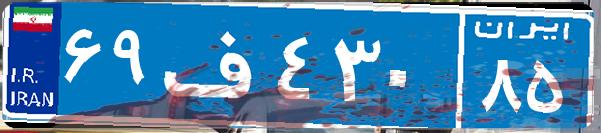0: (385, 28, 445, 110)
3: (330, 28, 385, 110)
4: (273, 28, 330, 110)
5: (525, 38, 570, 115)
6: (57, 26, 110, 107)
8: (475, 38, 525, 113)
9: (110, 28, 158, 105)
ف: (158, 15, 273, 115)
